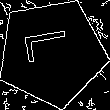L_E: (24, 33, 79, 72)
